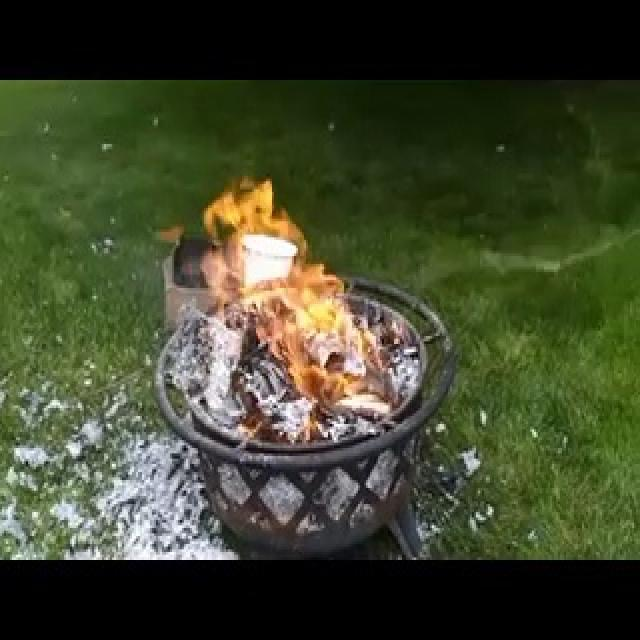Fire: (142, 108, 398, 423)
